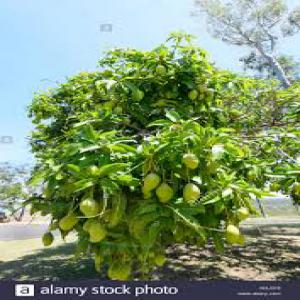Tree: (20, 30, 294, 276)
